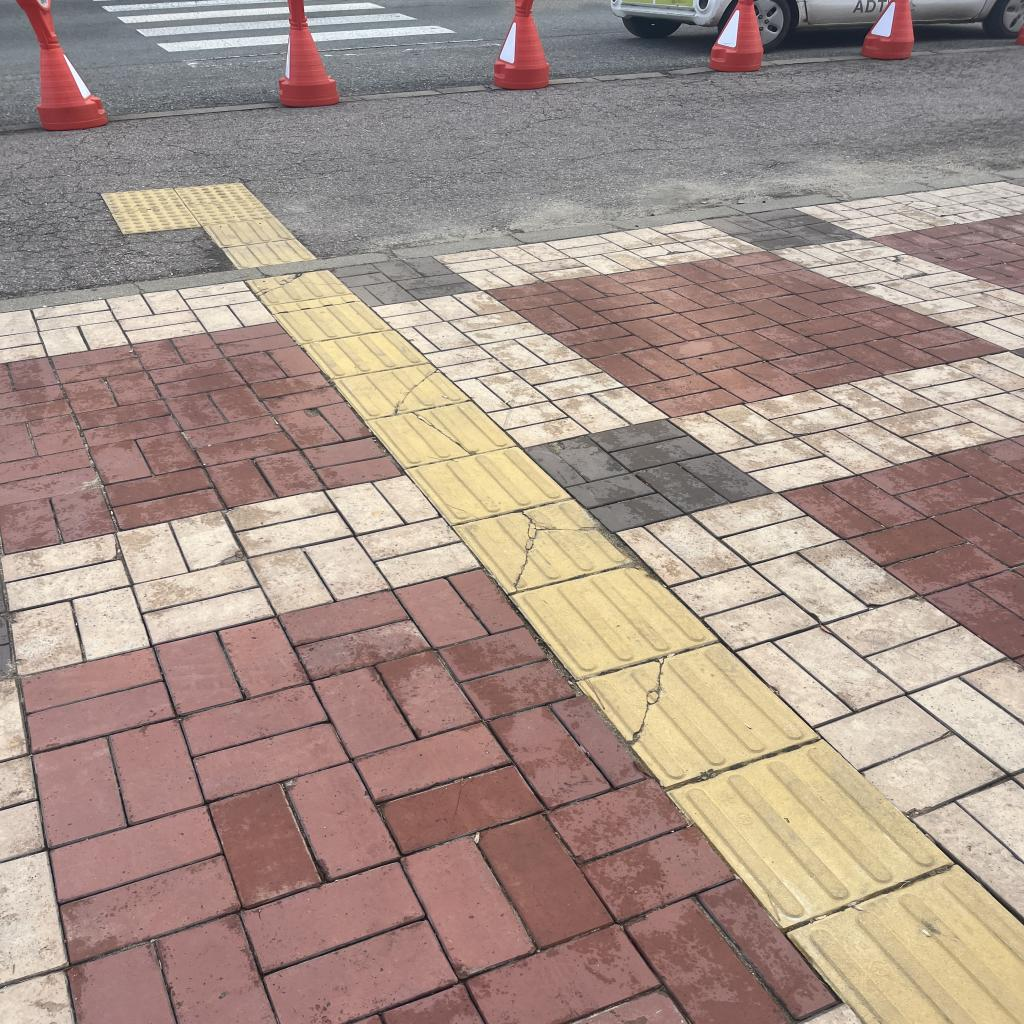Straight block broken: (579, 615, 817, 802), (454, 486, 637, 601), (367, 394, 515, 472), (332, 354, 469, 425), (247, 266, 352, 307)
Straight block normal: (668, 706, 952, 948), (510, 544, 717, 691), (408, 437, 569, 530), (303, 325, 429, 382), (273, 296, 391, 346)
